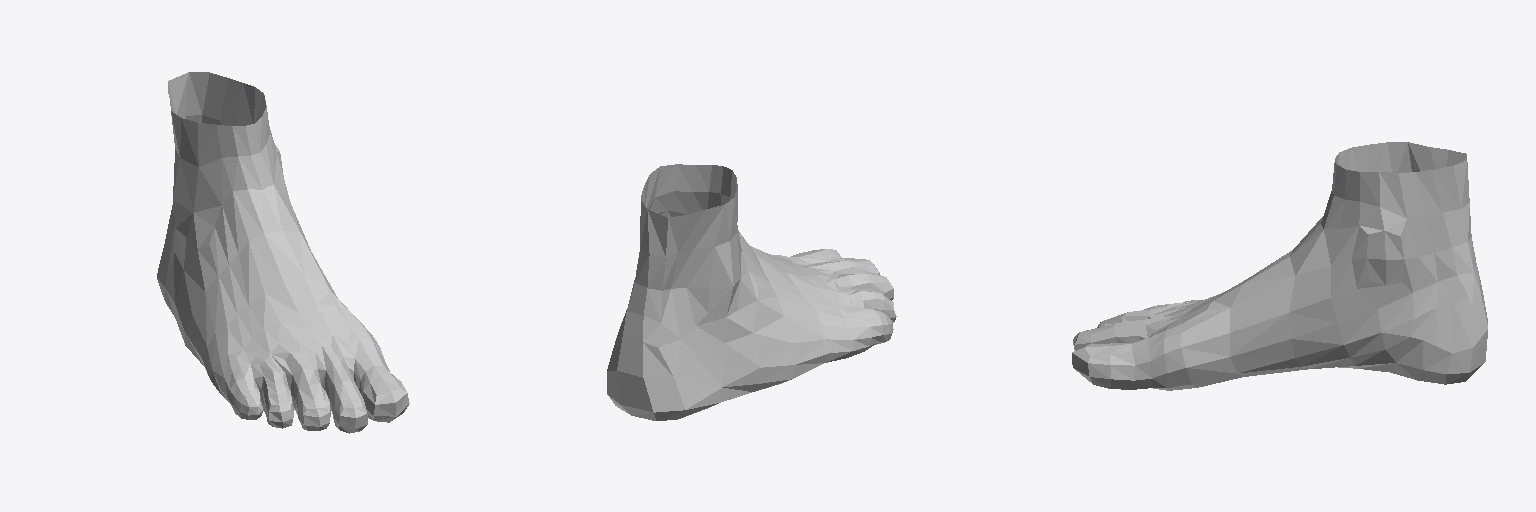
Rendered from 0_1_FootSmoothRight.obj.
3 views of the same model, side by side, from view 1: azimuth 30°, elevation 25°; view 2: azimuth 150°, elevation 25°; view 3: azimuth 270°, elevation 25° (orthographic).
Visible parts, largest first — view 1: polySurface1156.001; view 2: polySurface1156.001; view 3: polySurface1156.001.
Part boxes in pixels (left/top/right/bottom): polySurface1156.001: left=157, top=72, right=409, bottom=433; polySurface1156.001: left=607, top=164, right=896, bottom=420; polySurface1156.001: left=1072, top=142, right=1487, bottom=390.
Size of the model in its own units: 0.0725 by 0.1078 by 0.1818.